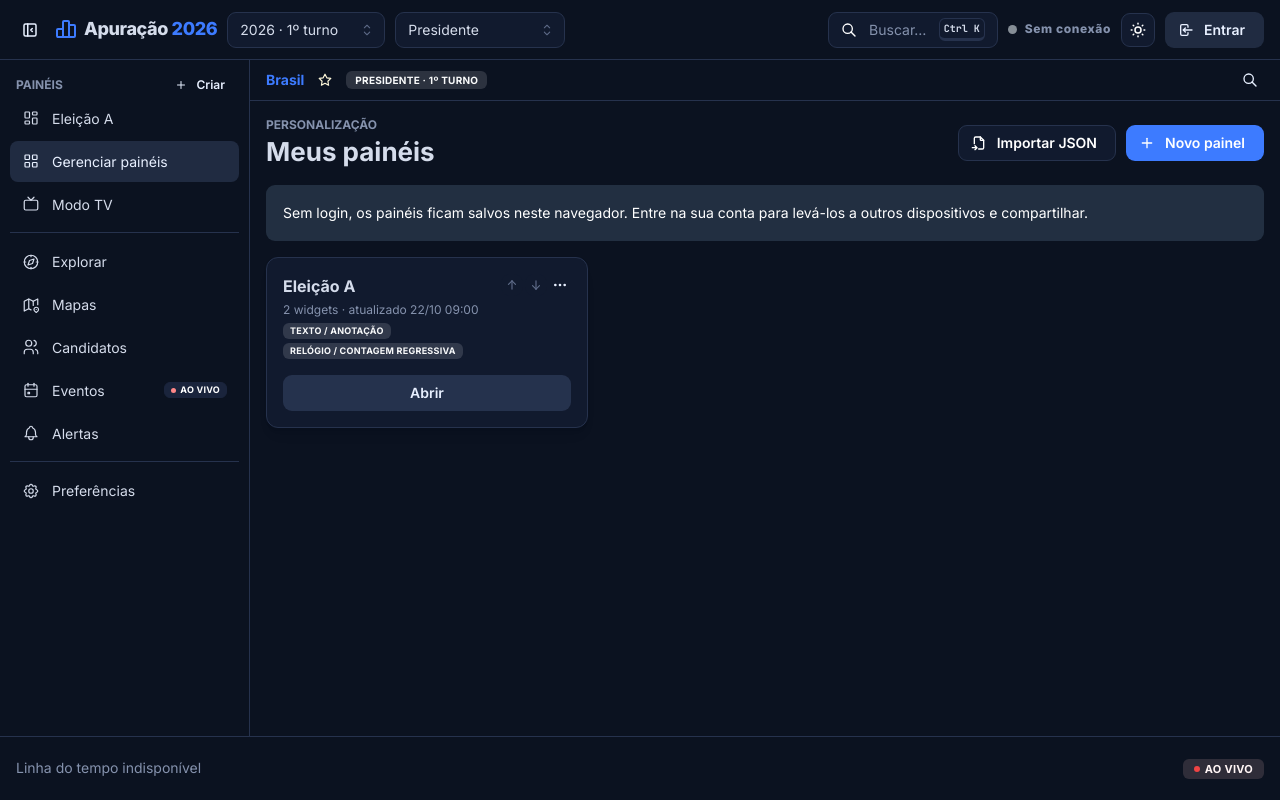
Test: dashboards list › duplicates a dashboard as a copy and opens it
Click the button named "Opções": x=560, y=285 top-left (549, 274), bottom-right (571, 296)
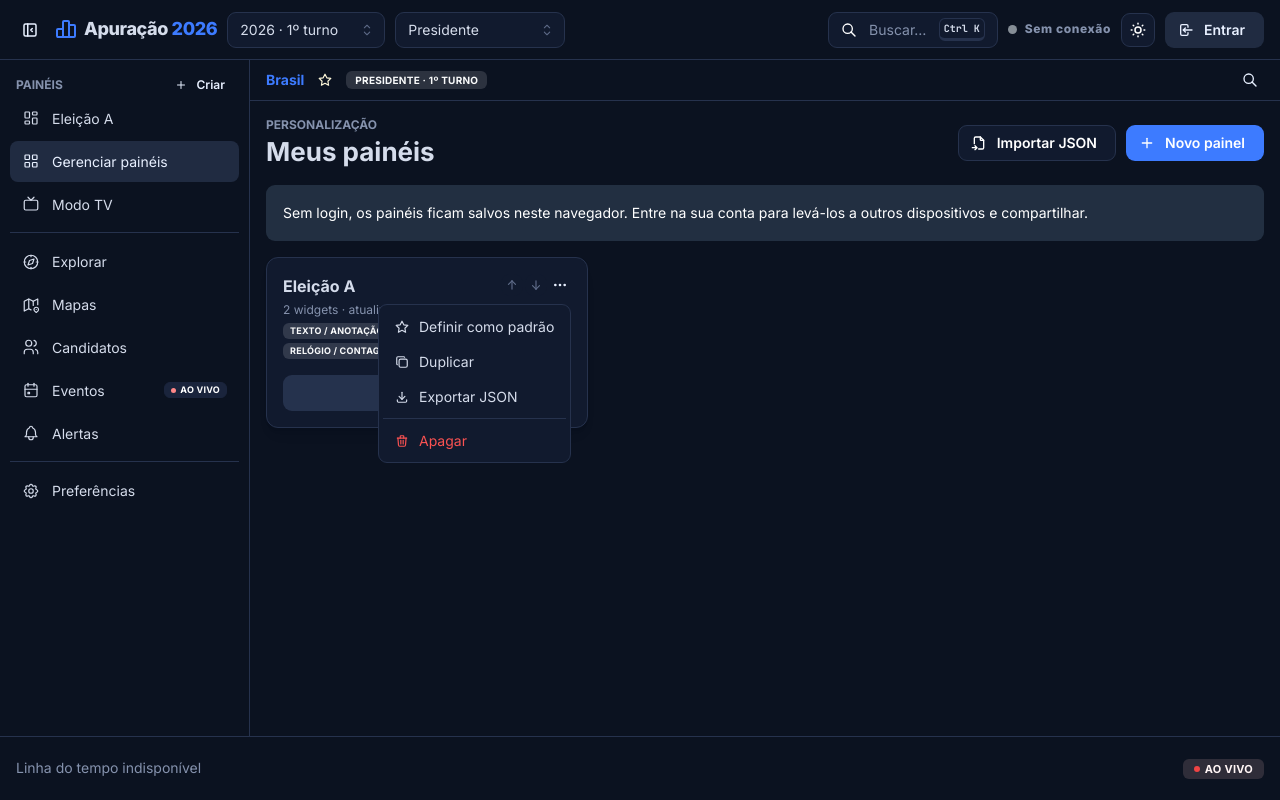
Click the menu item "Duplicar": x=474, y=361 top-left (383, 344), bottom-right (566, 379)
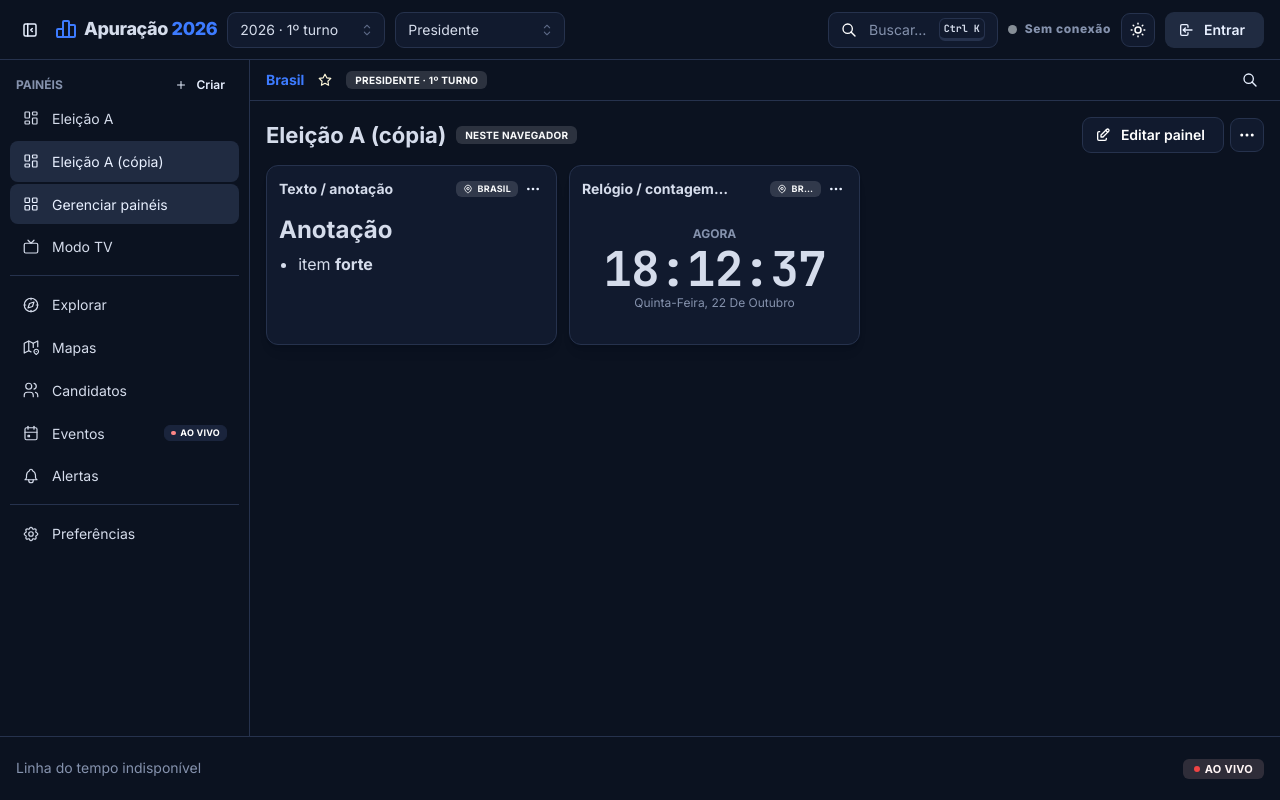
Expected: the heading "Eleição A (cópia)" is shown, top-left (266, 120), bottom-right (446, 150)
